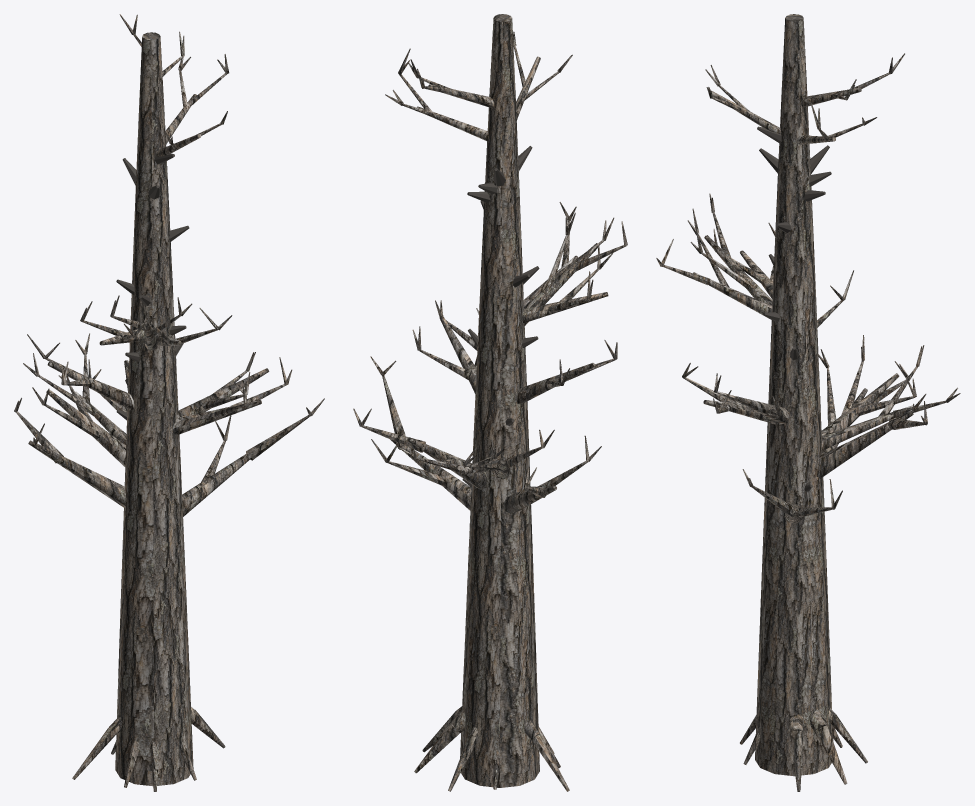
Rendered from tall-burnt-pine-v01.glb.
3 renders of one model, left to right at view 1: azimuth 30°, elevation 25°; view 2: azimuth 150°, elevation 25°; view 3: azimuth 270°, elevation 25°, orthographic. The views are drawn at different scales.
Parts seen in each view (by area): view 1: dead-tree-burnt; view 2: dead-tree-burnt; view 3: dead-tree-burnt.
Boxes of the visible parts, x1,y1,x2,y2 form: dead-tree-burnt: (14, 14, 324, 791); dead-tree-burnt: (353, 14, 627, 791); dead-tree-burnt: (656, 14, 960, 791).
Bounding box in the file's own units: 3.43 × 9.3 × 3.46.
Materials: 2 (1 with a texture image).
